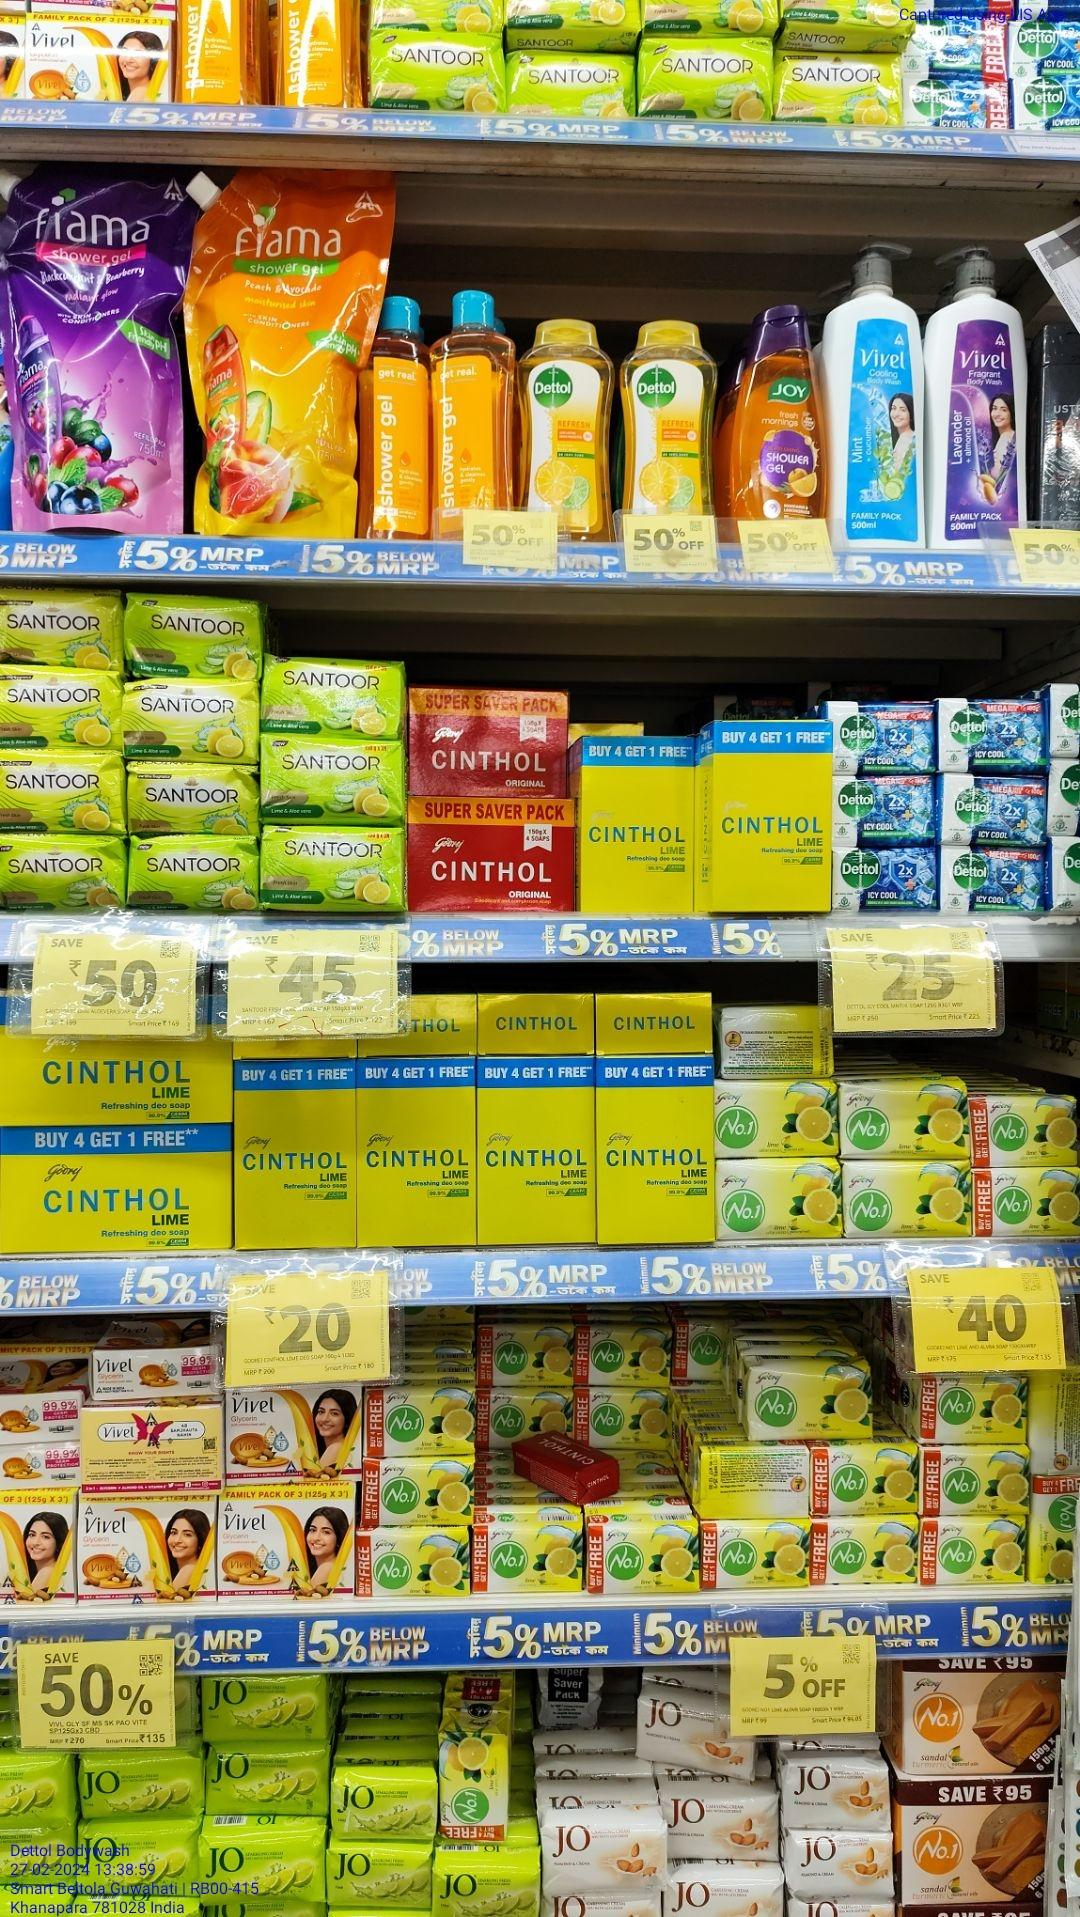Dettol_Bodywash_Refresh: (520, 319, 618, 544), (623, 313, 715, 520)
Joy_Shower_Gel_Mandarin_and_Lemongrass_250ML: (742, 299, 818, 528)
